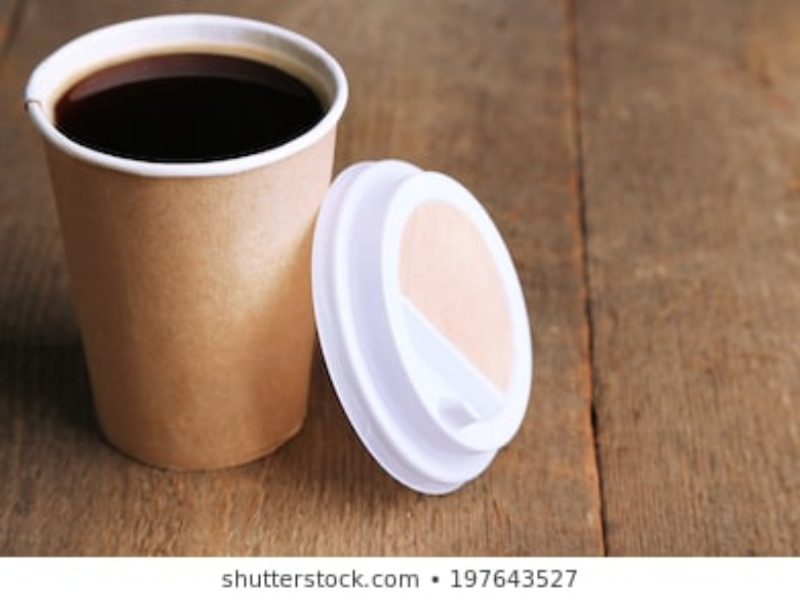coffee-lid: (309, 159, 536, 495)
